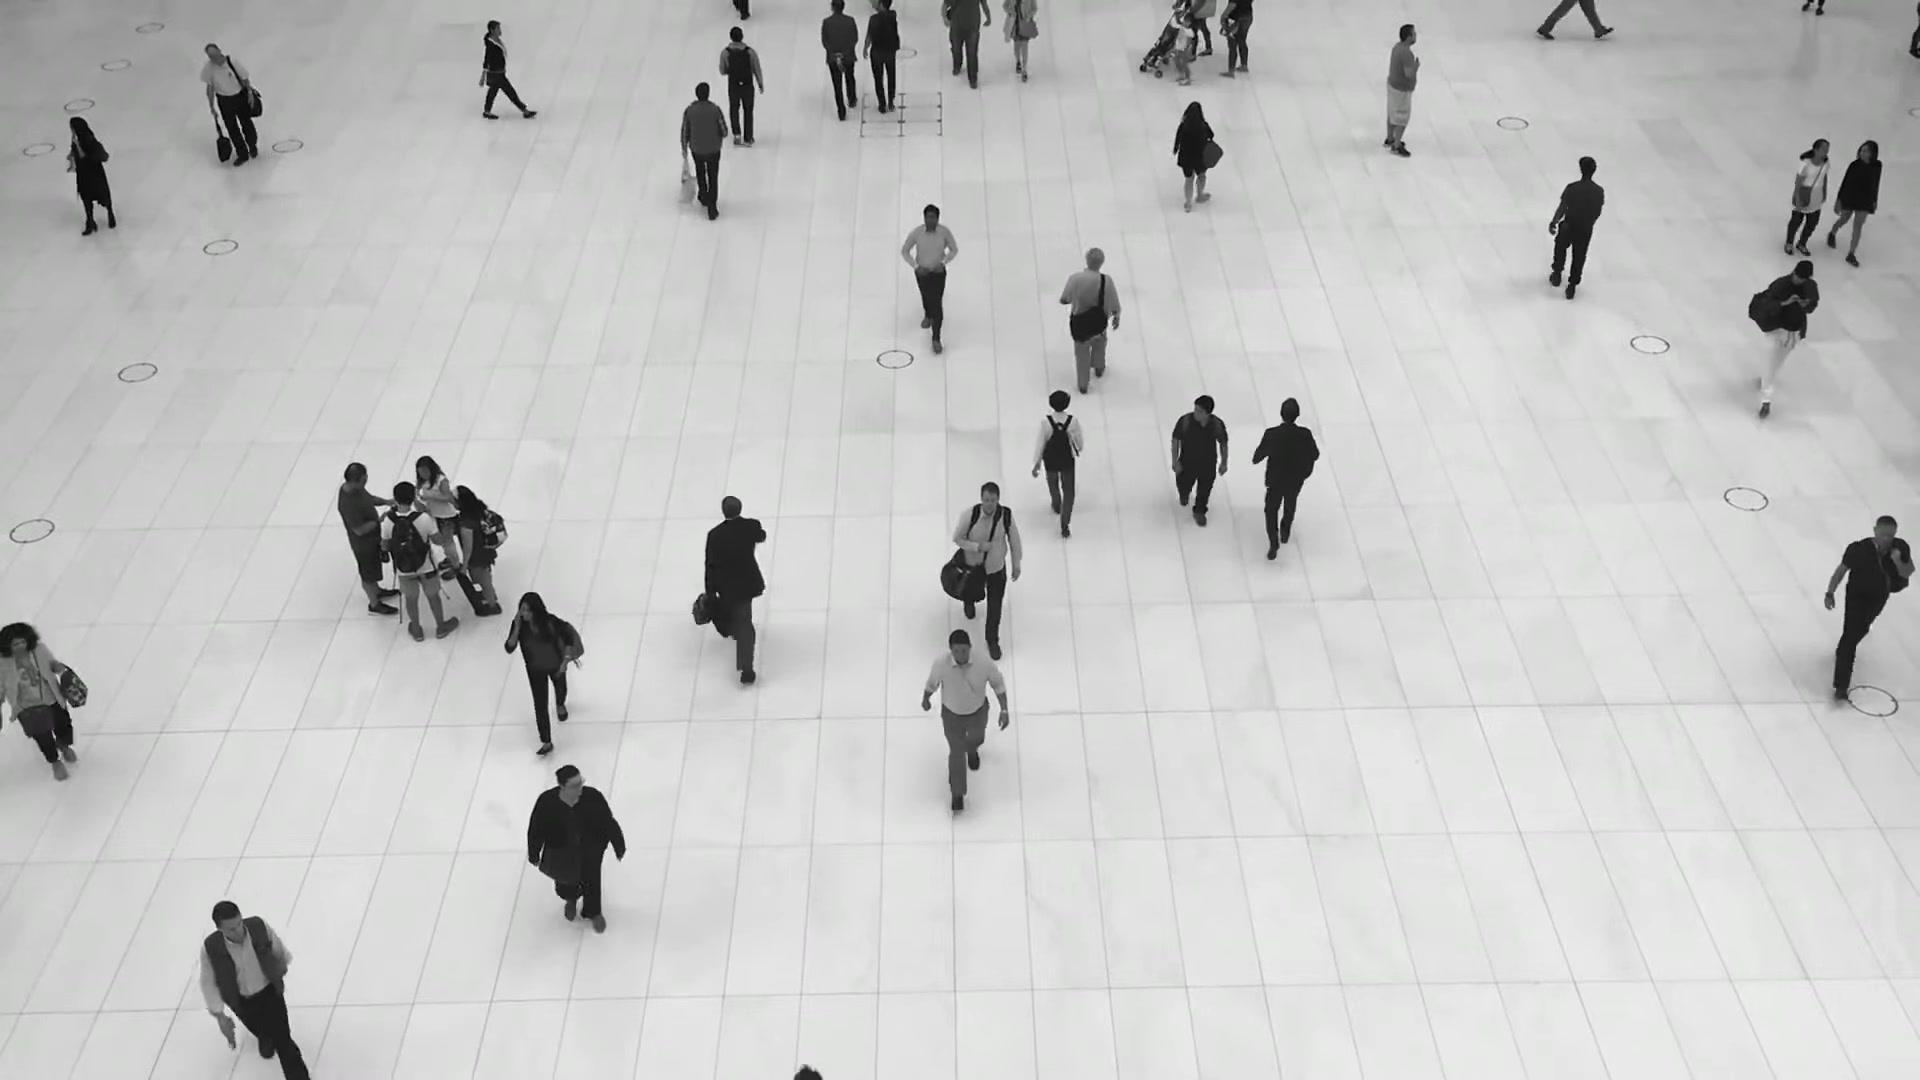person: (198, 894, 307, 1080), (523, 764, 622, 947), (1823, 511, 1914, 686), (922, 624, 1008, 805), (692, 494, 770, 684), (0, 621, 87, 786), (380, 481, 459, 641), (504, 587, 583, 742), (954, 481, 1021, 661), (1251, 401, 1320, 572), (1747, 257, 1819, 415), (336, 464, 400, 615), (900, 201, 960, 350), (1060, 249, 1121, 392), (1546, 155, 1605, 299), (1167, 395, 1227, 534), (1032, 392, 1084, 543), (200, 43, 258, 170), (450, 485, 502, 617), (677, 82, 727, 218), (1827, 139, 1881, 263), (717, 27, 766, 152), (66, 115, 118, 234), (1170, 101, 1224, 212), (1783, 138, 1831, 258), (416, 454, 459, 580), (1382, 24, 1421, 157), (479, 18, 530, 120), (820, 0, 859, 120), (863, 0, 900, 116), (1172, 13, 1196, 87)
